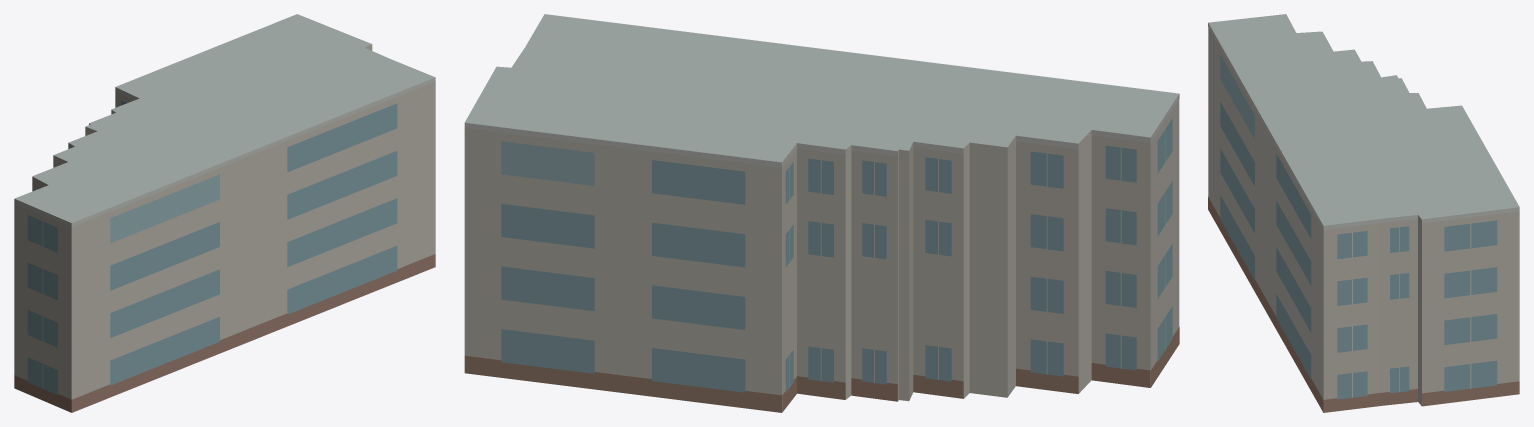
Rendered from survey-upis-32648443.glb.
3 renders of one model, left to right at view 1: azimuth 30°, elevation 25°; view 2: azimuth 150°, elevation 25°; view 3: azimuth 270°, elevation 25°, orthographic. The views are drawn at different scales.
Visible parts, largest first — view 1: survey-upis-32648443.tmp; view 2: survey-upis-32648443.tmp; view 3: survey-upis-32648443.tmp.
Boxes of the visible parts, x1=… form: survey-upis-32648443.tmp: x1=14, y1=14, x2=435, y2=412; survey-upis-32648443.tmp: x1=464, y1=14, x2=1179, y2=412; survey-upis-32648443.tmp: x1=1208, y1=14, x2=1519, y2=412.
Bounding box in the file's own units: 27.45 × 11.3 × 17.07.
